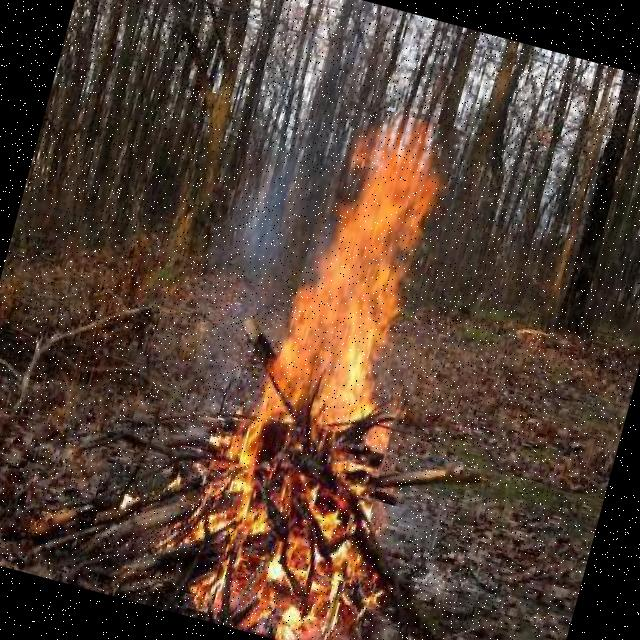fire: (228, 100, 470, 582)
